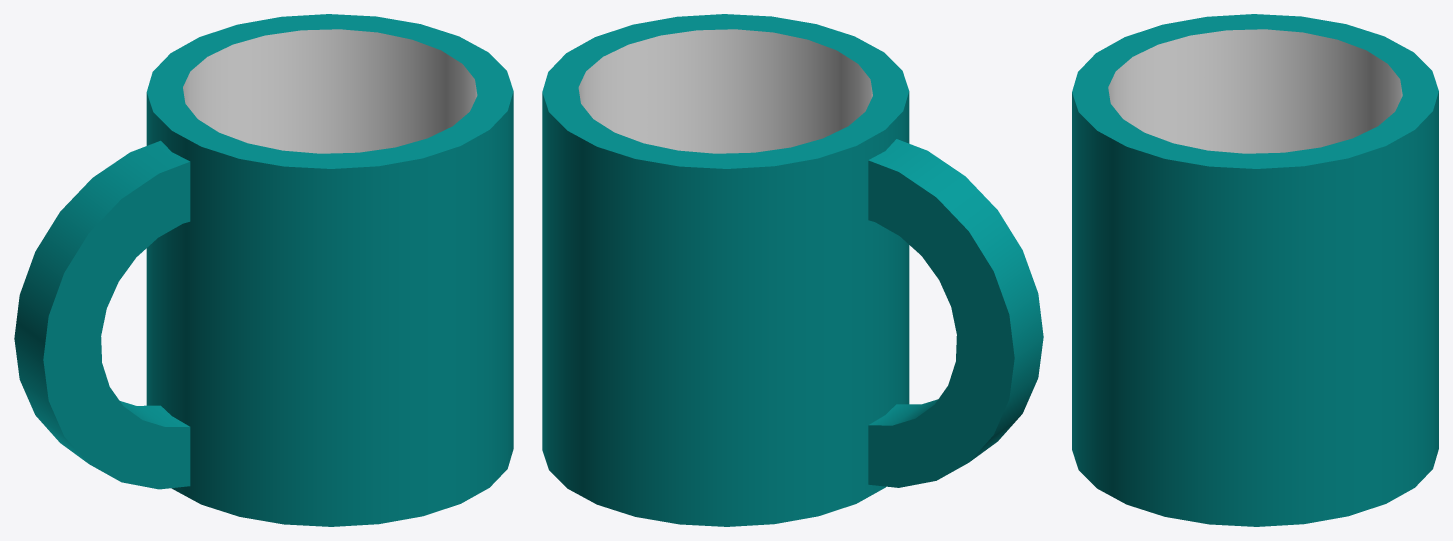
The model's file is Cup.fbx.
The picture shows the model from 3 angles, left to right: view 1: azimuth 30°, elevation 25°; view 2: azimuth 150°, elevation 25°; view 3: azimuth 270°, elevation 25°; orthographic projection.
Parts seen in each view (by area): view 1: Model; view 2: Model; view 3: Model.
Part boxes in pixels (bbox=[...]): Model: bbox=[14, 14, 513, 526]; Model: bbox=[542, 14, 1043, 526]; Model: bbox=[1072, 14, 1438, 526].
Size of the model in its own units: 234 by 174 by 161.
